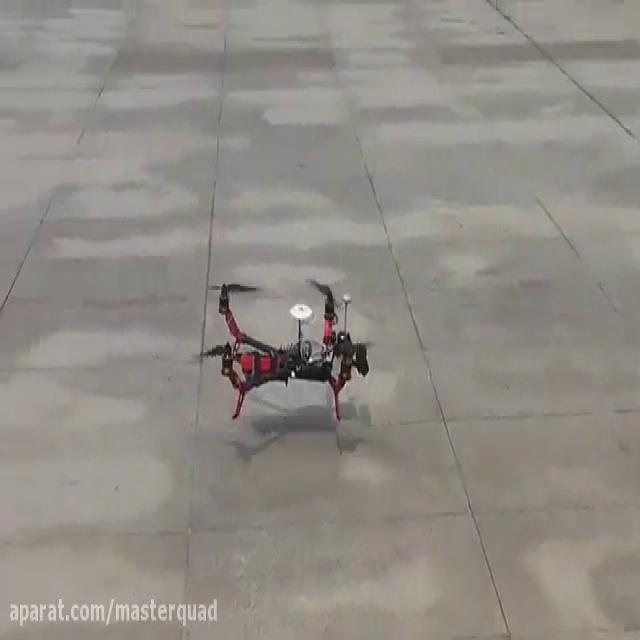drone: (187, 267, 380, 425)
